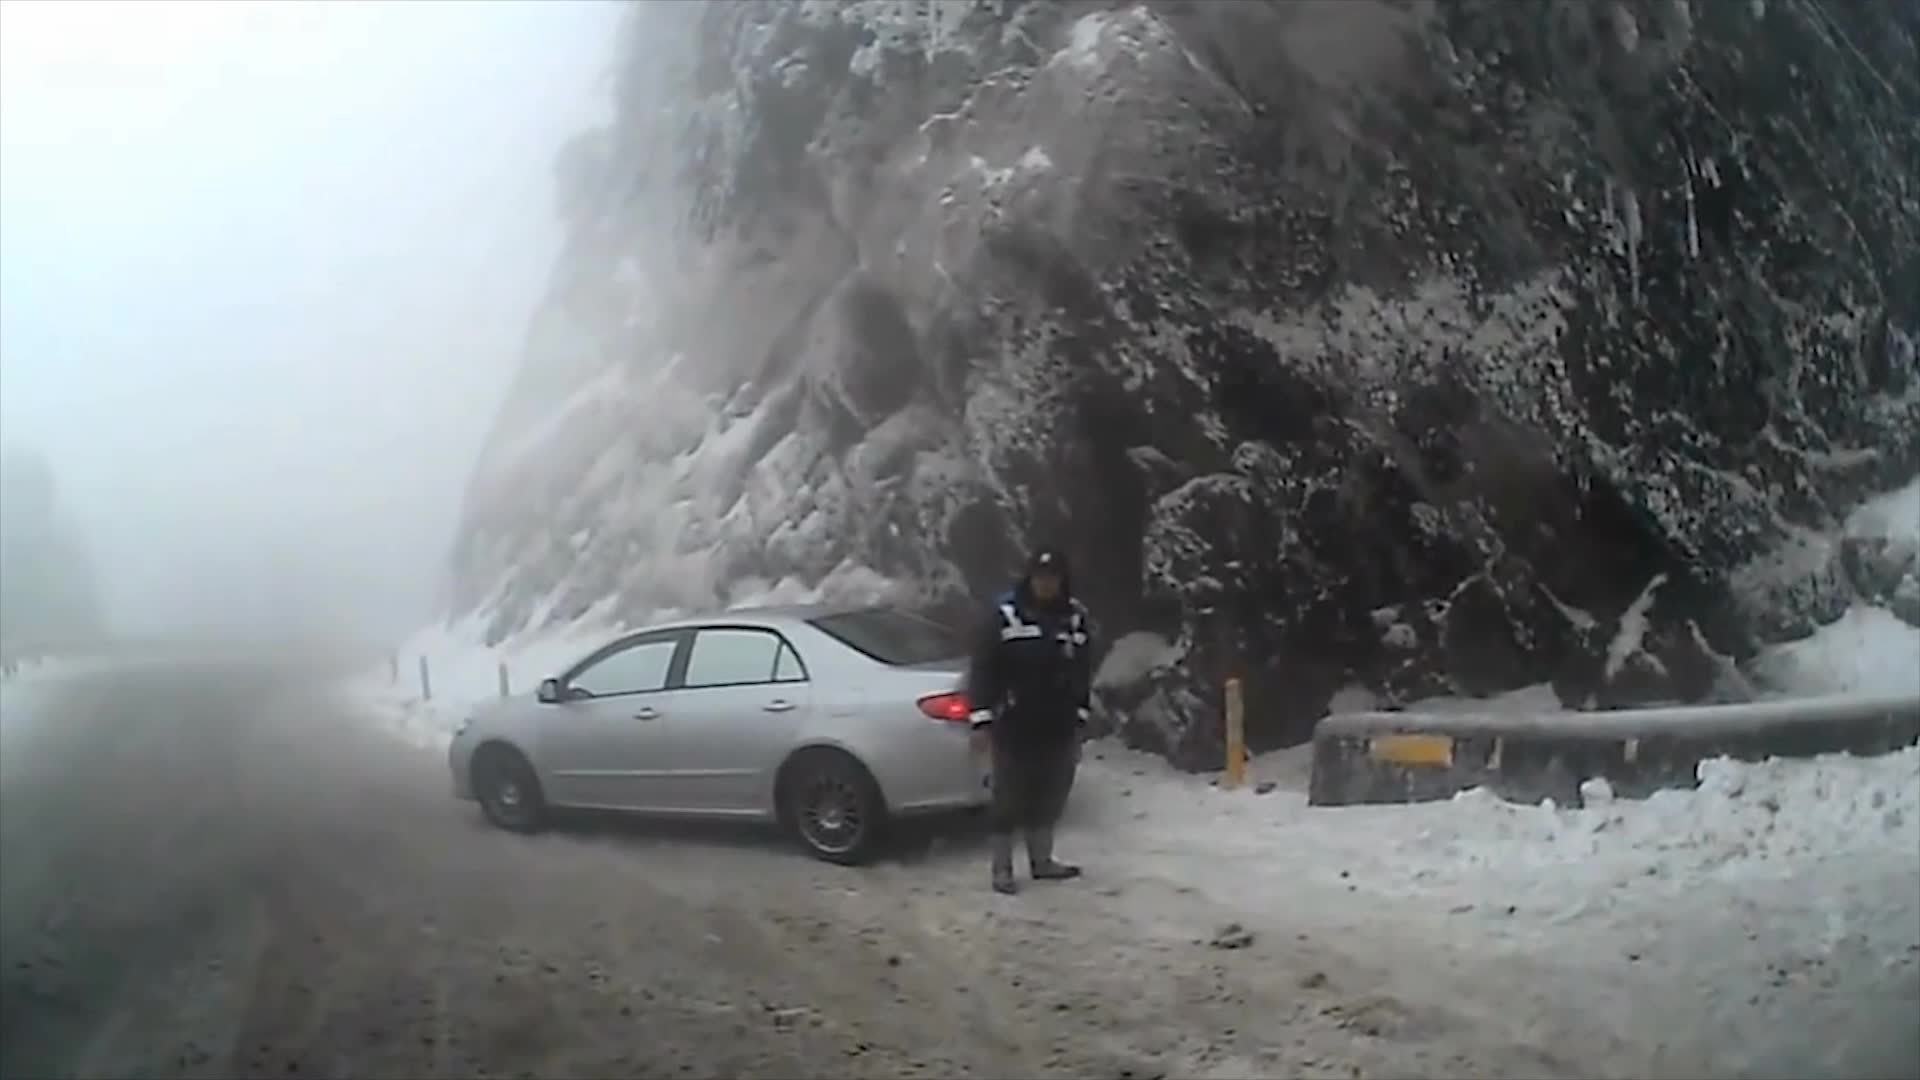pedestrian: (976, 570, 1104, 912)
vehicle: (443, 601, 1077, 865)
